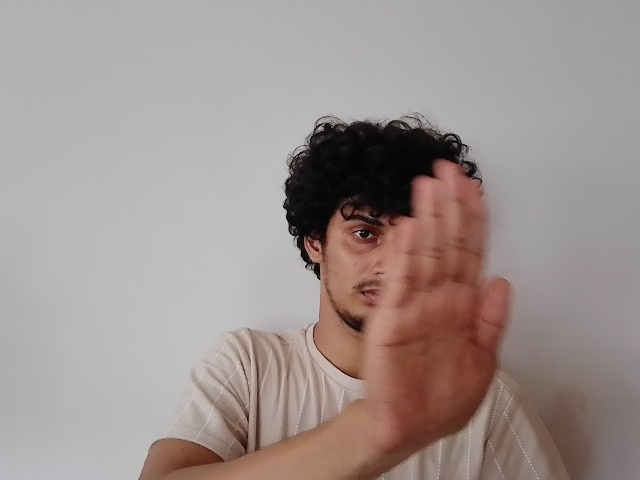hello: (369, 159, 514, 441)
